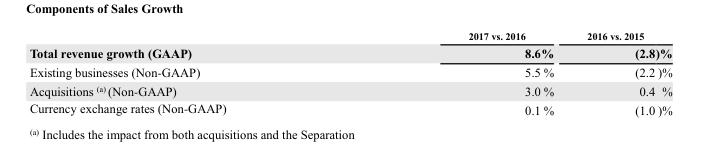table: (28, 29, 671, 116)
table column: (28, 29, 346, 116), (346, 29, 569, 116), (569, 29, 671, 116)
table column header: (28, 29, 671, 43)
table row: (28, 43, 671, 62), (28, 62, 671, 81), (28, 81, 671, 99), (28, 99, 671, 116), (28, 29, 671, 43)
